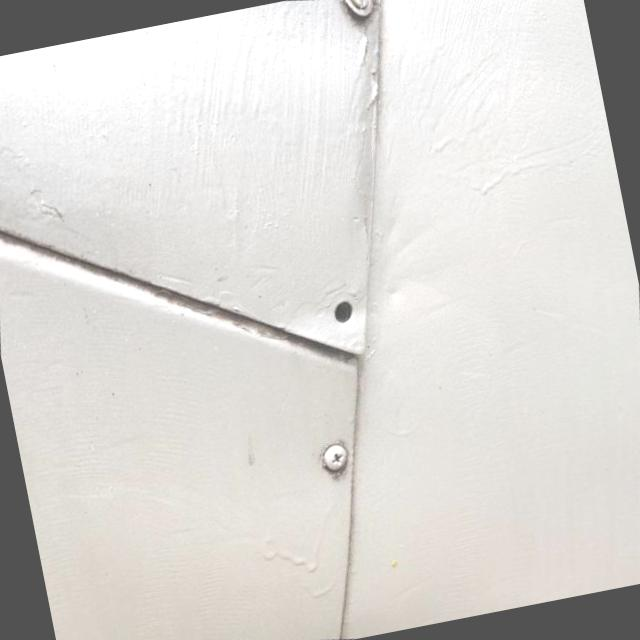Missing Fastener: (331, 300, 355, 324)
